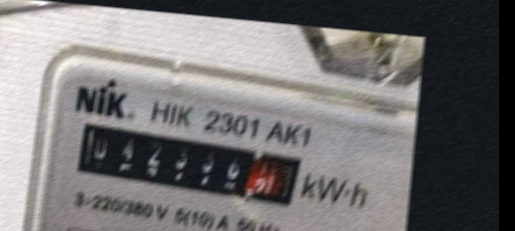0: (92, 134, 107, 164)
2: (144, 141, 164, 170)
3: (170, 144, 189, 174), (199, 147, 216, 176)
4: (118, 137, 136, 166)
6: (224, 156, 241, 184)
screen: (64, 115, 310, 218)
